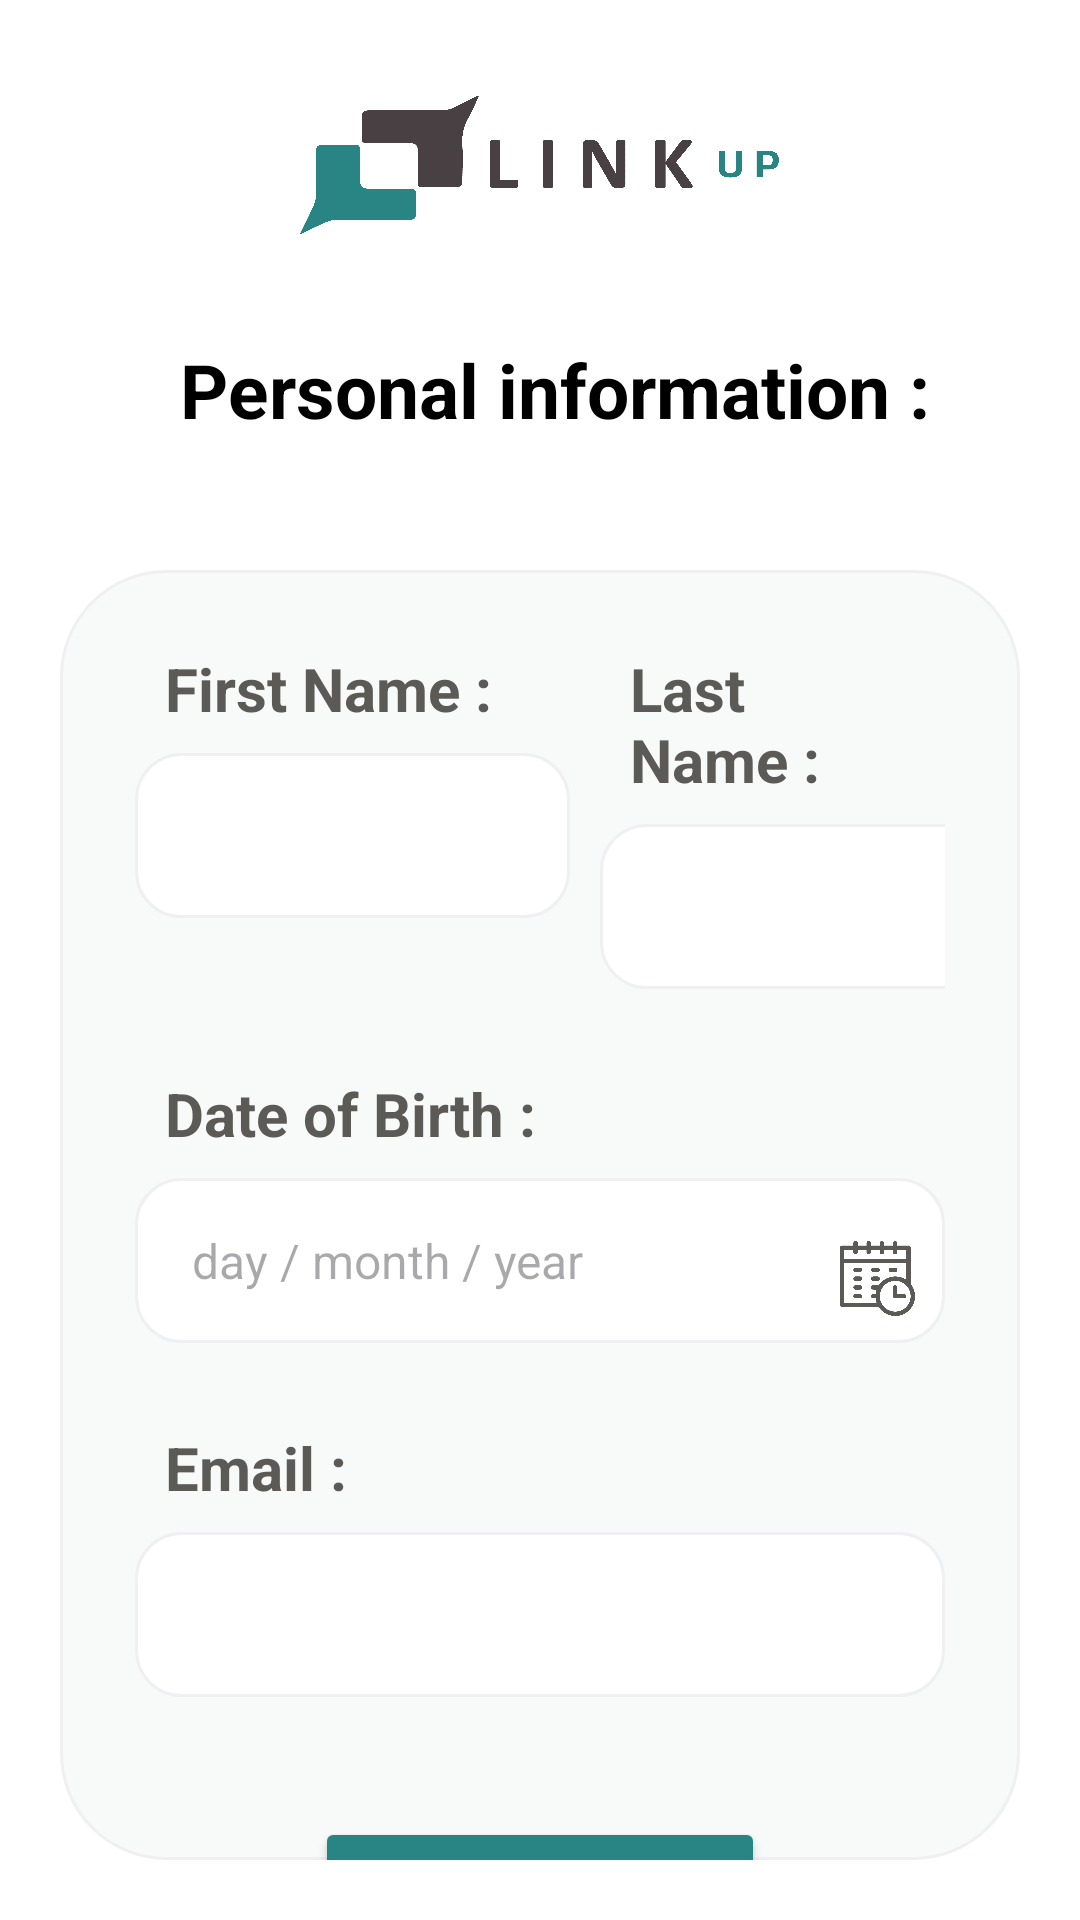

Named icons in this screenshot (1080 × 1920) and their centers, (x=x, y=y):
calendrier: (x=877, y=1278)
